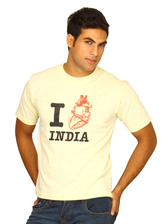clothoes: (16, 65, 158, 197)
